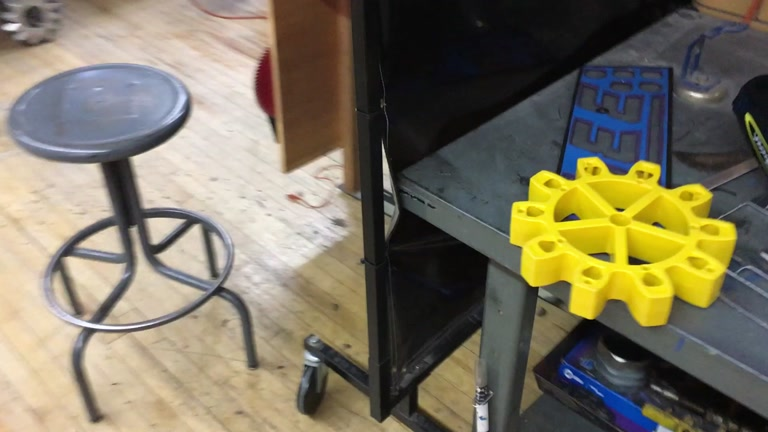gear: (508, 155, 737, 327)
